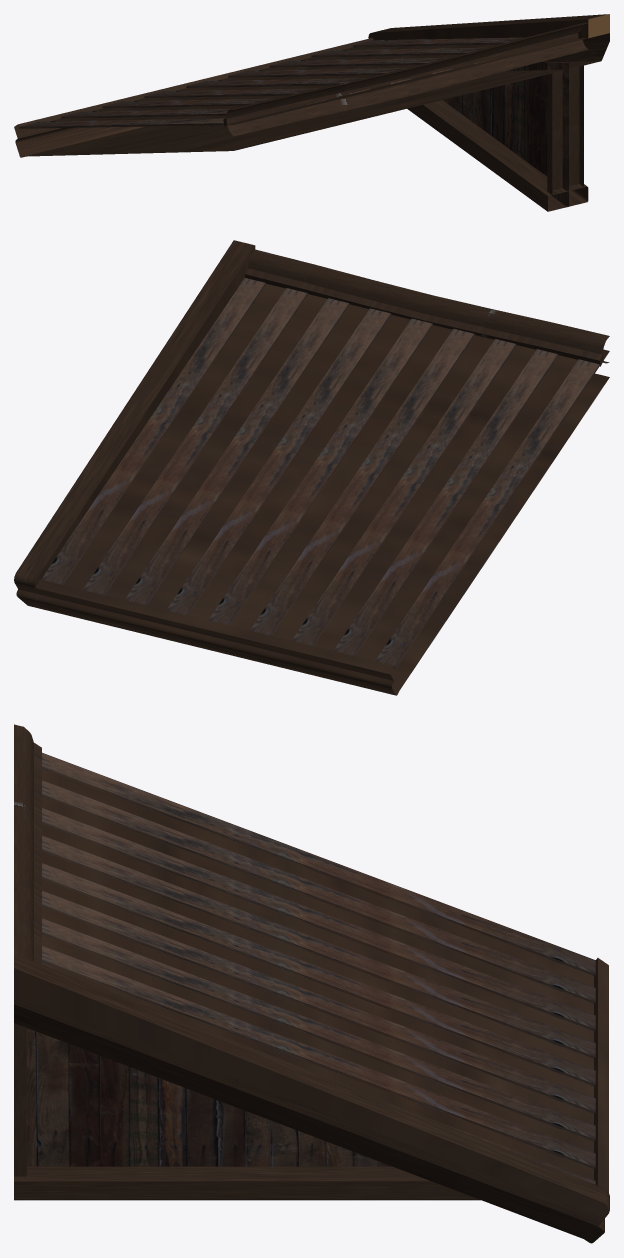
Rendered from OutdoorArchitecture_Roof02_Planks04_BShortt.fbx.
The picture shows the model from 3 angles, top to bottom: view 1: azimuth 30°, elevation 25°; view 2: azimuth 150°, elevation 25°; view 3: azimuth 270°, elevation 25°; orthographic projection. The views are drawn at different scales.
Visible parts, largest first — view 1: OutdoorArchitecture_Roof02_Planks04_BShortt; view 2: OutdoorArchitecture_Roof02_Planks04_BShortt; view 3: OutdoorArchitecture_Roof02_Planks04_BShortt.
Part boxes in pixels (x1=…): OutdoorArchitecture_Roof02_Planks04_BShortt: x1=14, y1=14, x2=609, y2=211; OutdoorArchitecture_Roof02_Planks04_BShortt: x1=14, y1=240, x2=609, y2=695; OutdoorArchitecture_Roof02_Planks04_BShortt: x1=14, y1=724, x2=609, y2=1243.
Bounding box in the file's own units: 337 × 178 × 342.
